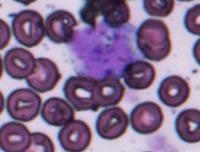M: (68, 22, 135, 79)
